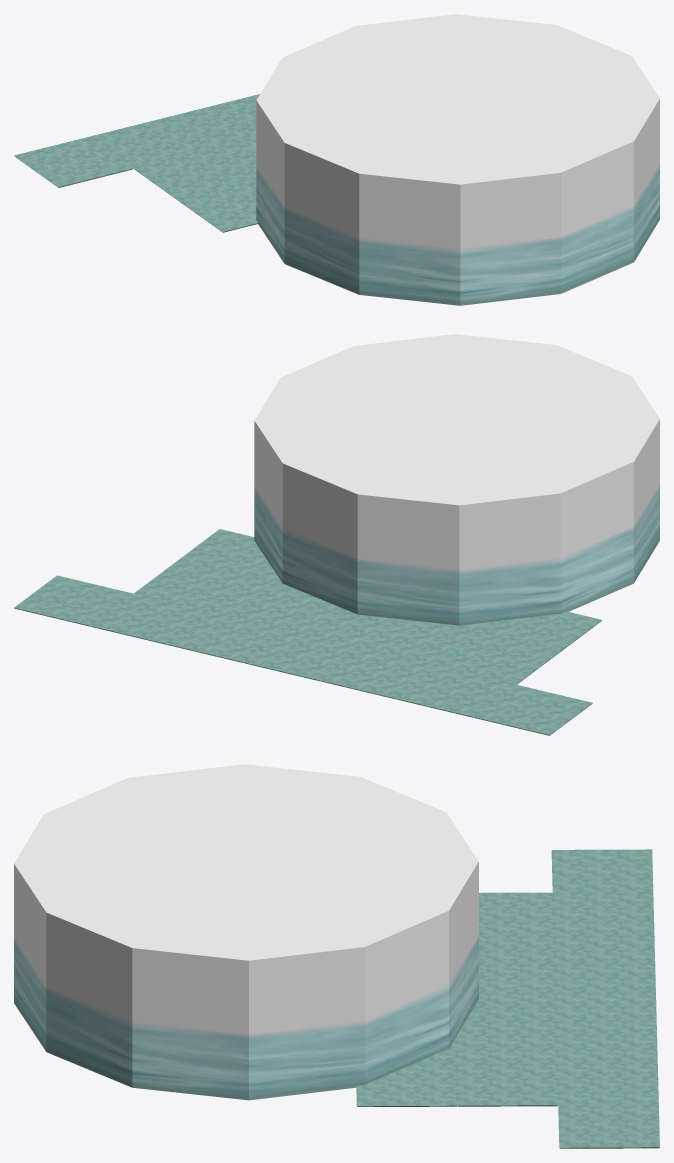
The model's file is TimeChamber.obj.
3 views of the same model, one above another, from view 1: azimuth 30°, elevation 25°; view 2: azimuth 150°, elevation 25°; view 3: azimuth 270°, elevation 25° (orthographic). The views are drawn at different scales.
Visible parts, largest first — view 1: Mesh_Mesh.192_DrawCall_77; view 2: Mesh_Mesh.192_DrawCall_77; view 3: Mesh_Mesh.192_DrawCall_77.
Boxes of the visible parts, x1,y1,x2,y2 form: Mesh_Mesh.192_DrawCall_77: (14, 14, 659, 305); Mesh_Mesh.192_DrawCall_77: (14, 334, 659, 735); Mesh_Mesh.192_DrawCall_77: (14, 764, 659, 1148).
Bounding box in the file's own units: 3156 × 689 × 2887.
13 materials, 13 textured.
